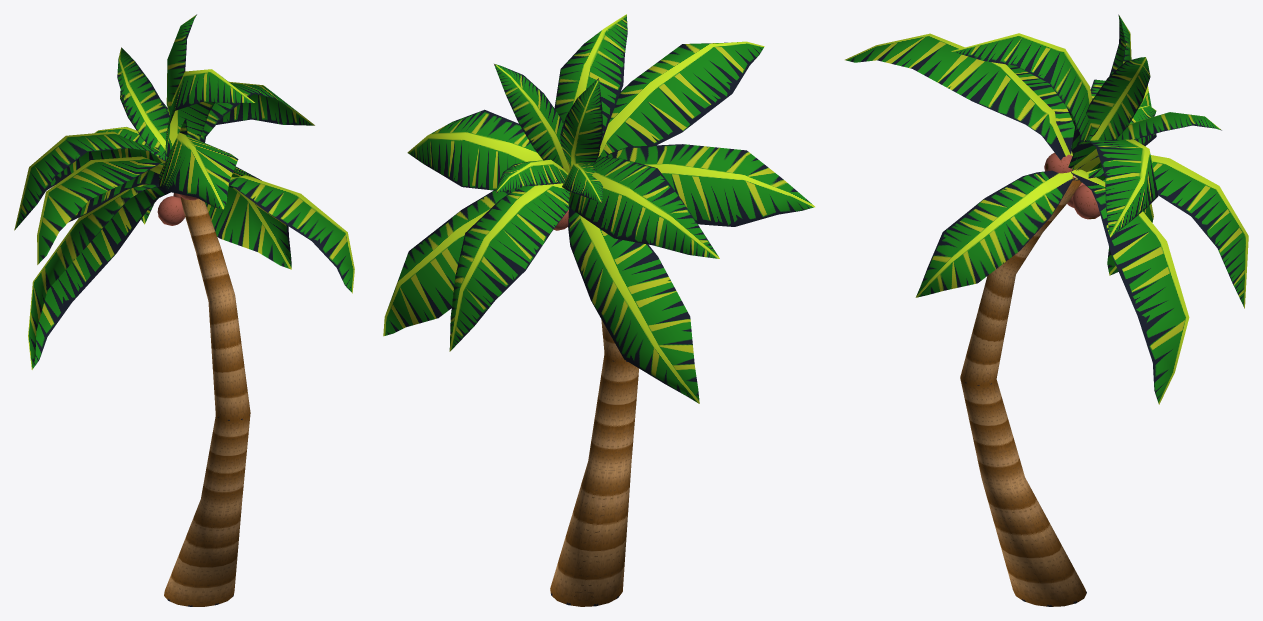
Rendered from CoconutBentTest.fbx.
3 views of the same model, side by side, from view 1: azimuth 30°, elevation 25°; view 2: azimuth 150°, elevation 25°; view 3: azimuth 270°, elevation 25° (orthographic). The views are drawn at different scales.
Parts seen in each view (by area): view 1: Coqueiro Torto.002; view 2: Coqueiro Torto.002; view 3: Coqueiro Torto.002.
Boxes of the visible parts, box(x1,y1,x2,y2) form: Coqueiro Torto.002: box(14, 14, 354, 606); Coqueiro Torto.002: box(383, 14, 814, 606); Coqueiro Torto.002: box(845, 14, 1248, 606).
Bounding box in the file's own units: 1477 × 2244 × 1474.
Materials: 1 (1 with a texture image).
